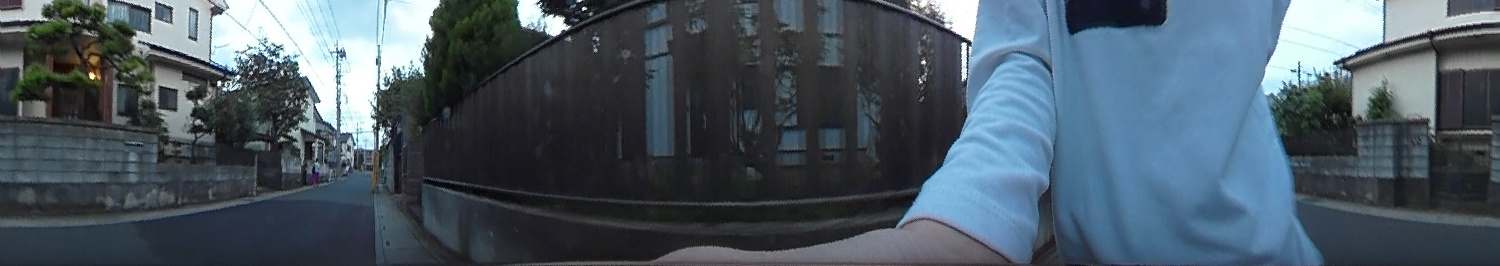difficult_person: (310, 156, 323, 188)
